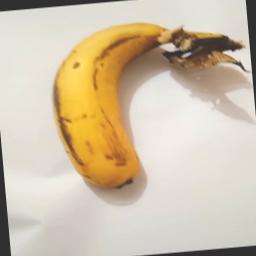Banana Unripe: (43, 9, 256, 194)
